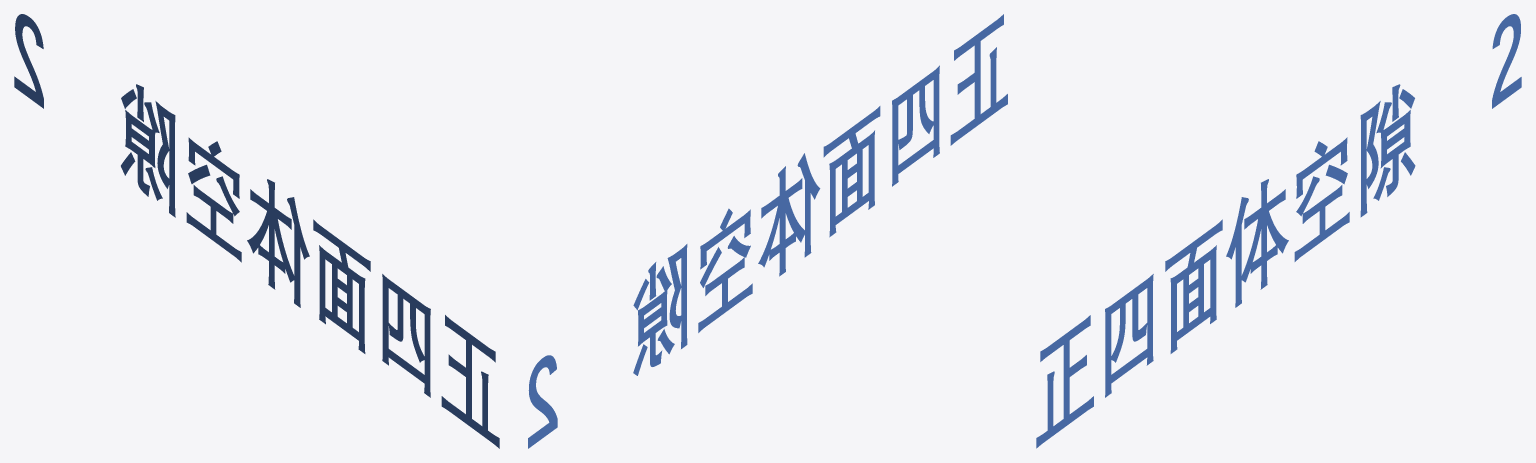
The picture shows the model from 3 angles, left to right: view 1: azimuth 30°, elevation 25°; view 2: azimuth 150°, elevation 25°; view 3: azimuth 330°, elevation 25°; orthographic projection.
Parts seen in each view (by area): view 1: Text.007; view 2: Text.007; view 3: Text.007.
Boxes of the visible parts, x1,y1,x2,y2 form: Text.007: (14,14,499,448); Text.007: (528,14,1007,448); Text.007: (1036,14,1521,448).
Bounding box in the file's own units: 0.142 × 76.29 × 621.
